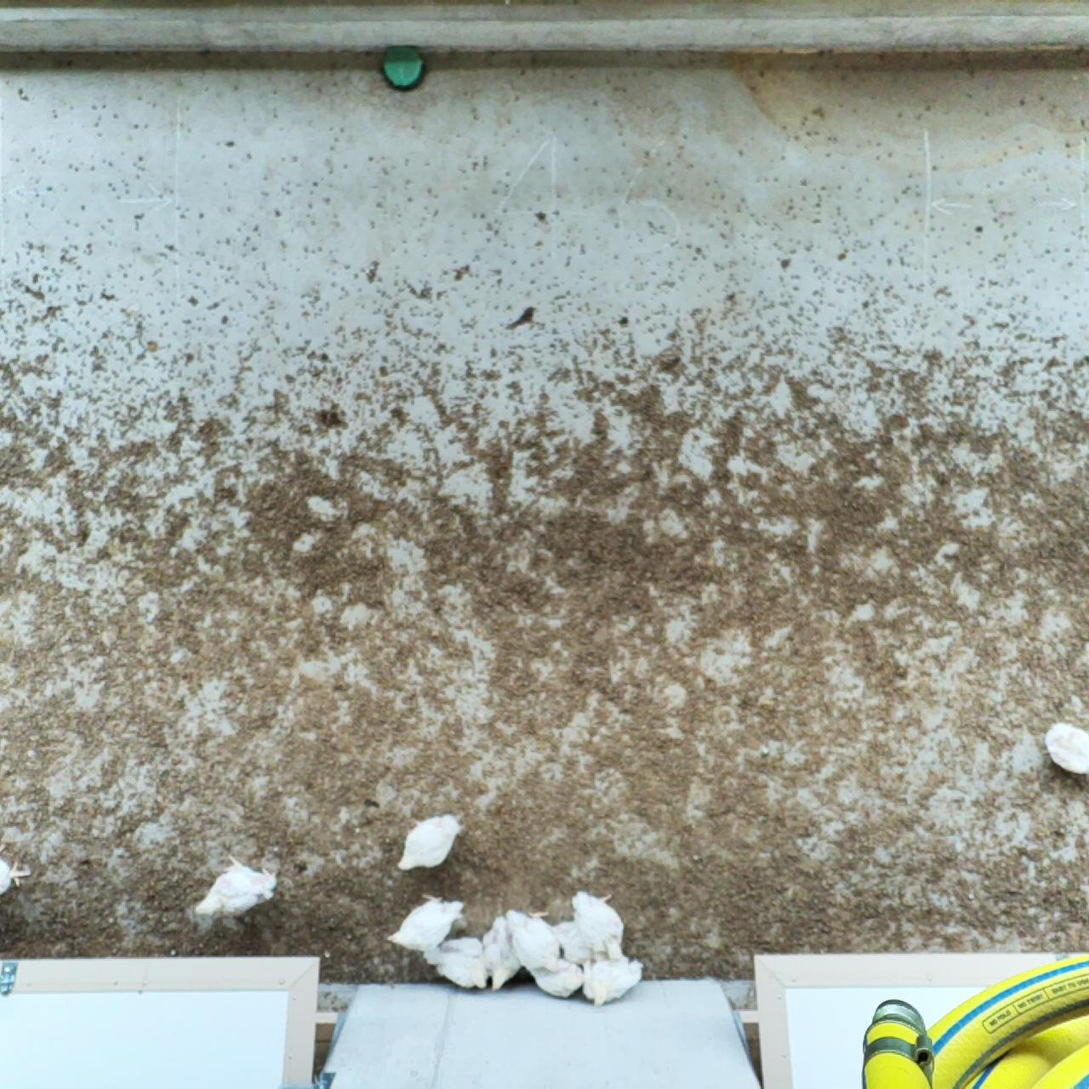chicken: (192, 851, 278, 920), (386, 889, 470, 955), (397, 807, 465, 877), (568, 888, 629, 962), (422, 935, 491, 993), (505, 907, 563, 975), (580, 954, 647, 1008), (481, 912, 522, 992), (524, 954, 589, 1000), (549, 916, 610, 964), (1041, 718, 1089, 776), (0, 856, 35, 899)
